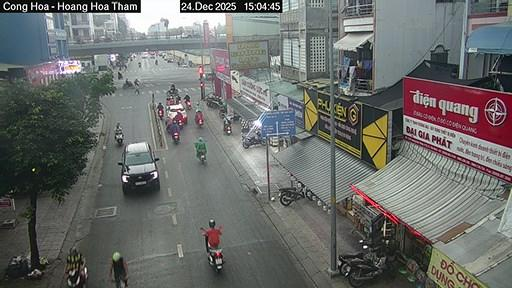motorbike: (339, 239, 394, 286), (348, 252, 394, 286), (336, 238, 378, 274), (278, 187, 312, 205), (67, 266, 85, 287), (242, 133, 265, 148), (208, 247, 223, 270), (205, 95, 223, 106), (115, 131, 122, 144), (172, 131, 179, 143), (122, 81, 133, 88), (167, 89, 178, 95), (224, 124, 230, 135), (195, 117, 202, 126), (176, 117, 182, 127), (157, 108, 163, 118), (198, 152, 204, 162), (185, 99, 191, 108), (118, 72, 121, 79), (137, 62, 140, 67), (154, 59, 156, 63), (367, 255, 371, 256)
